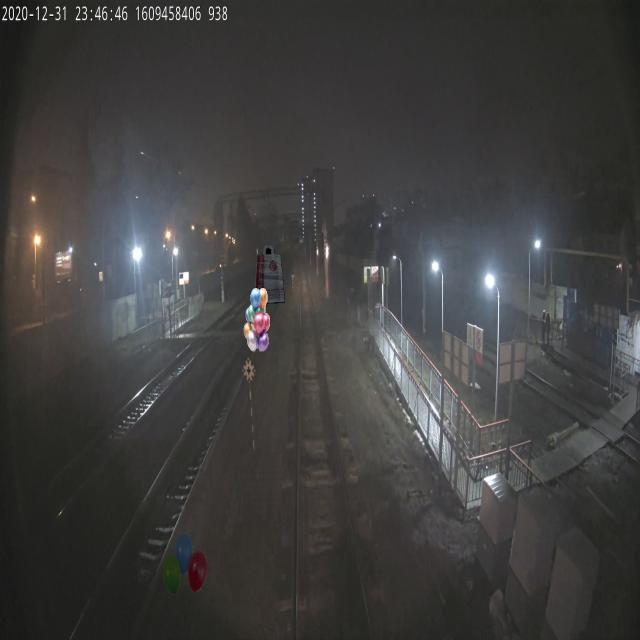balloon: (162, 532, 208, 596), (243, 288, 270, 352)
plastic bag: (253, 239, 292, 298)
